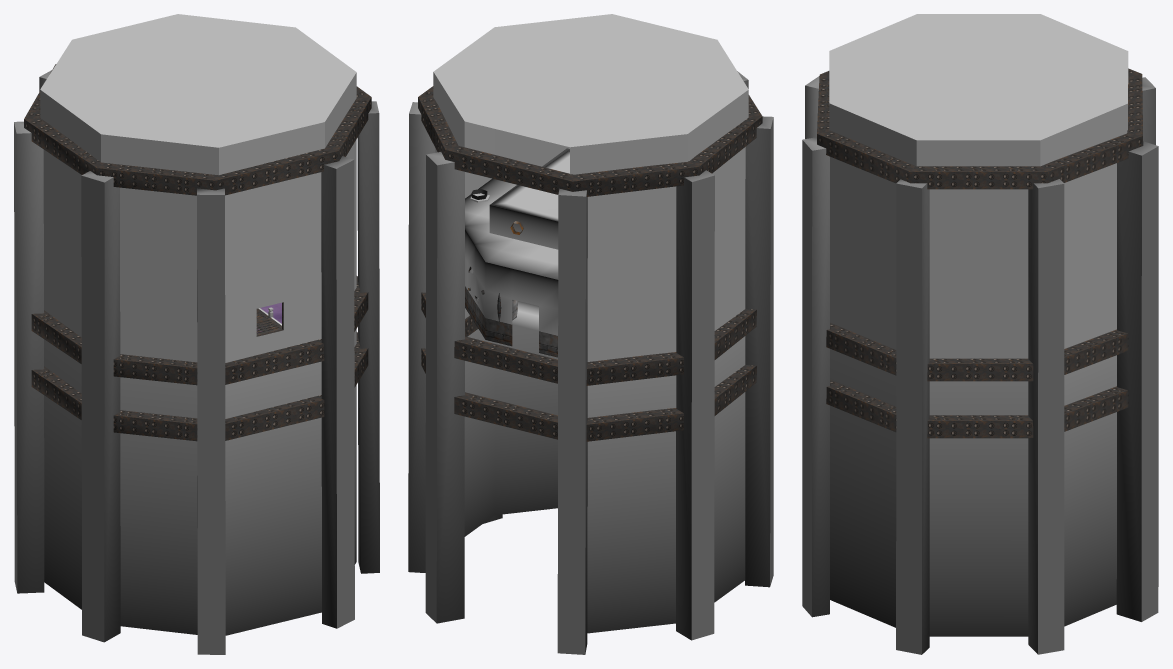
Rendered from sales_director_boss_room.fbx.
3 renders of one model, left to right at view 1: azimuth 30°, elevation 25°; view 2: azimuth 150°, elevation 25°; view 3: azimuth 270°, elevation 25°, orthographic.
Visible parts, largest first — view 1: BrickPillar, MetalBeamTrims; view 2: BrickPillar, MetalBeamTrims, Walls, Ceiling, Balcony; view 3: BrickPillar, MetalBeamTrims.
Boxes of the visible parts, x1=… form: BrickPillar: x1=14, y1=14, x2=379, y2=654; MetalBeamTrims: x1=24, y1=64, x2=371, y2=441; BrickPillar: x1=408, y1=14, x2=773, y2=654; MetalBeamTrims: x1=418, y1=86, x2=762, y2=441; Walls: x1=465, y1=205, x2=558, y2=357; Ceiling: x1=465, y1=148, x2=569, y2=279; Balcony: x1=512, y1=301, x2=538, y2=331; BrickPillar: x1=802, y1=14, x2=1158, y2=654; MetalBeamTrims: x1=817, y1=68, x2=1143, y2=438.
Bounding box in the file's own units: 5169 × 8086 × 5181.
